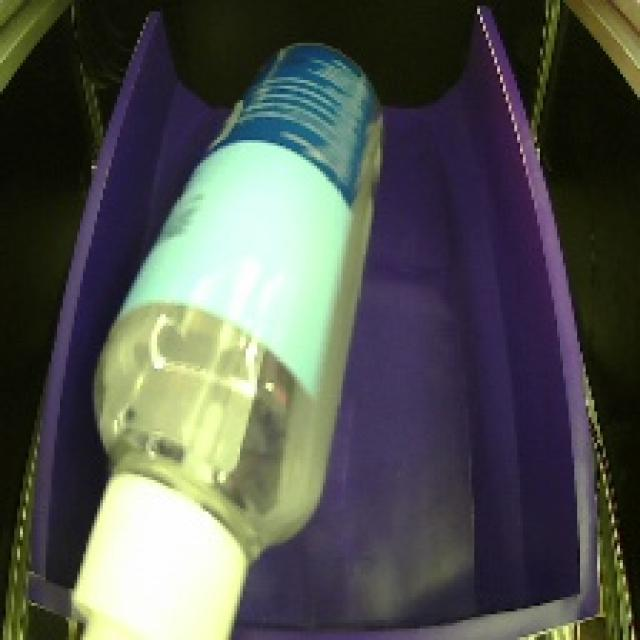plastic: (55, 30, 409, 639)
